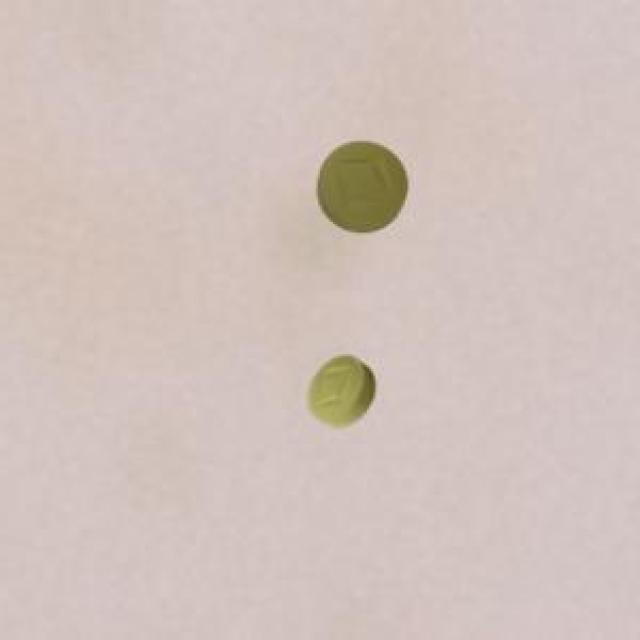Decolgen: (308, 128, 422, 245), (296, 346, 382, 443)
